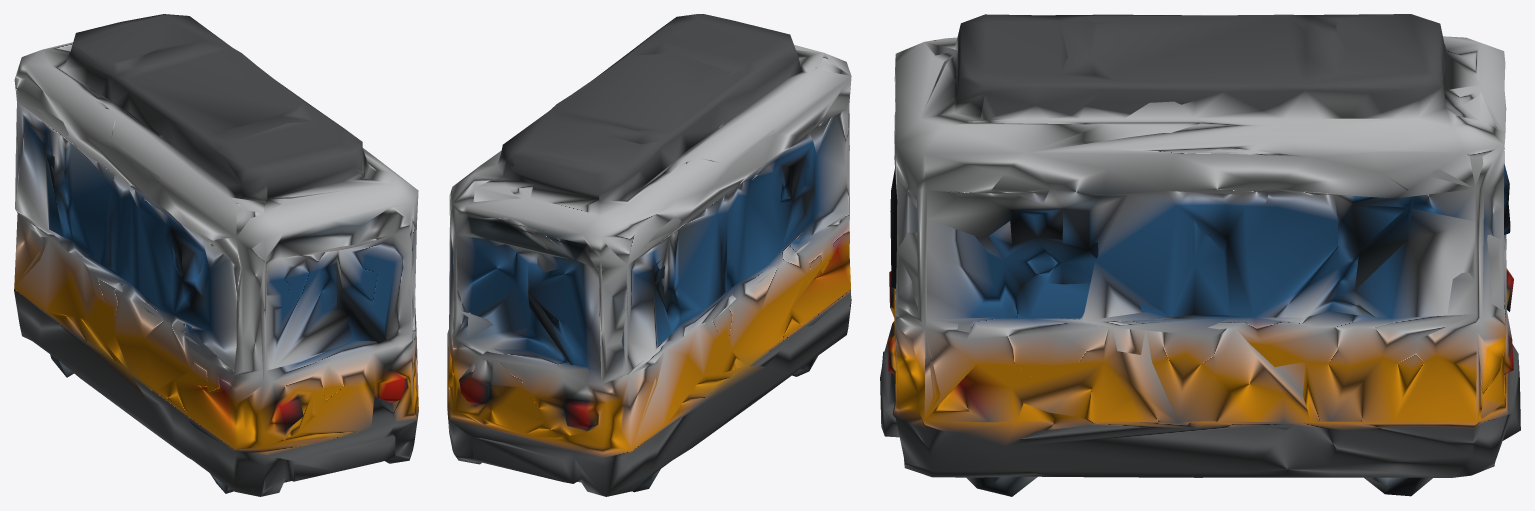
File: gen3d-tram-lod0.glb
3 views of the same model, side by side, from view 1: azimuth 30°, elevation 25°; view 2: azimuth 150°, elevation 25°; view 3: azimuth 270°, elevation 25° (orthographic). The views are drawn at different scales.
Parts seen in each view (by area): view 1: part_0; view 2: part_0; view 3: part_0.
Boxes of the visible parts, <box> form: part_0: <box>14,14,418,496</box>; part_0: <box>447,14,851,496</box>; part_0: <box>880,14,1520,496</box>.
Bounding box in the file's own units: 0.6031 × 0.9961 × 1.42.
